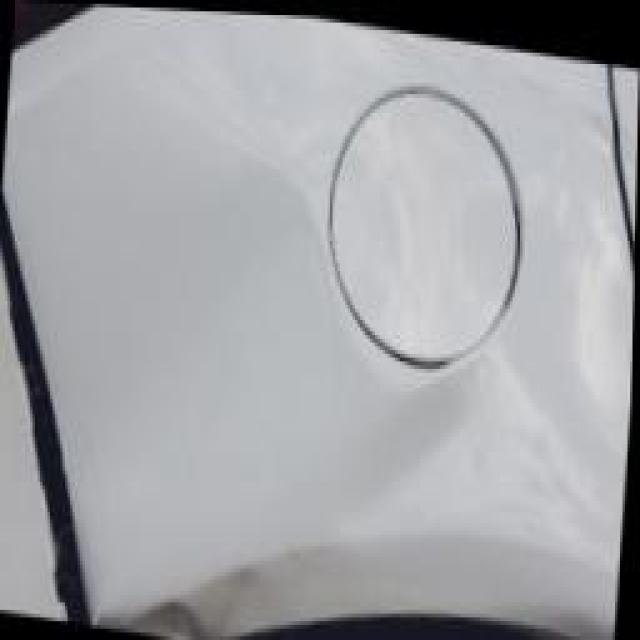Bumper: (0, 207, 86, 618)
Fender: (90, 565, 226, 639)
